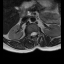CCS_normal: (33, 29, 35, 39)
LFS_normal: (37, 29, 39, 36)
LLS_normal: (35, 29, 37, 37)
RFS_normal: (28, 31, 30, 38)
RLS_normal: (30, 30, 33, 38)
